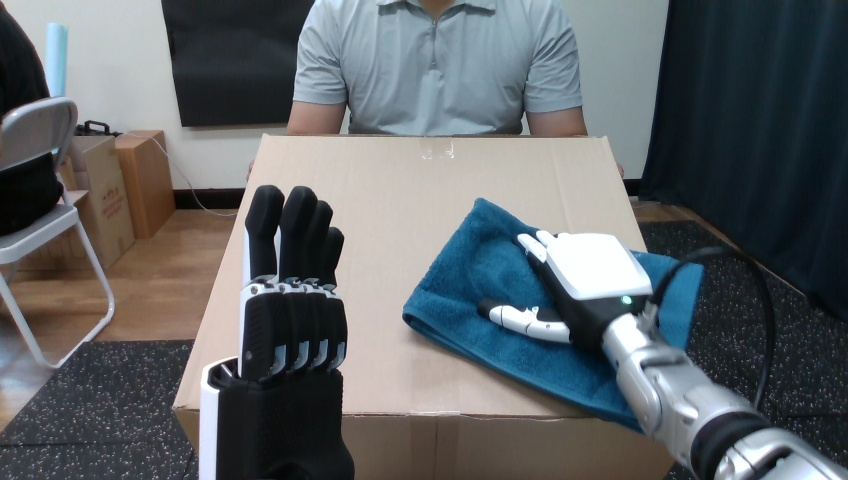left robot hand: (199, 185, 353, 478), (760, 269, 847, 466), (687, 257, 764, 399)
